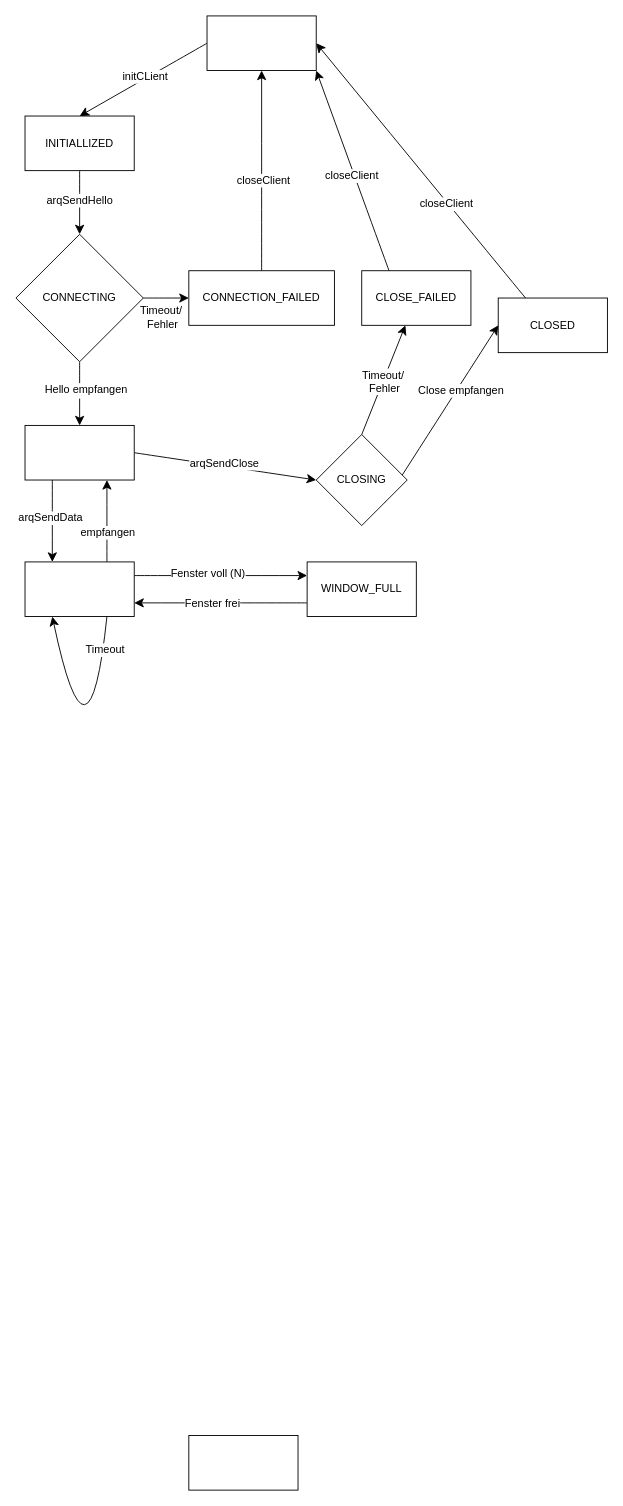
The diagram is 623 pixels wide and 1506 high, and some of its shapes have lost their labels. Here are the shapes that lost their labels. From the top down, the centre of each, then its label:
[261,43]: IDLE
[79,452]: CONNECTED
[79,589]: SENDING
